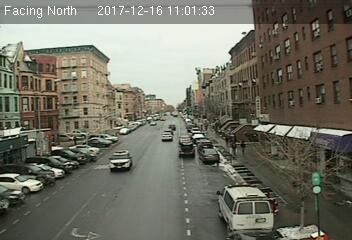car: (201, 149, 219, 162), (179, 141, 194, 156), (162, 130, 173, 141)
police: (214, 181, 274, 229), (107, 149, 135, 171)
